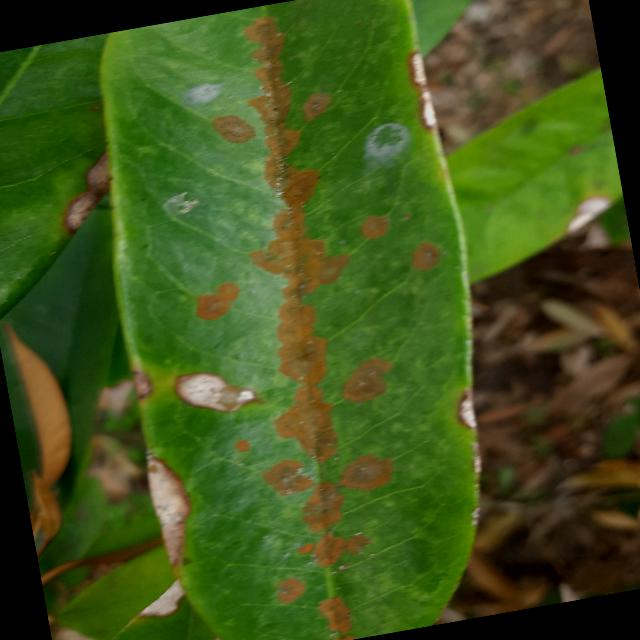Algal Leaf Spot: (63, 0, 534, 639)
